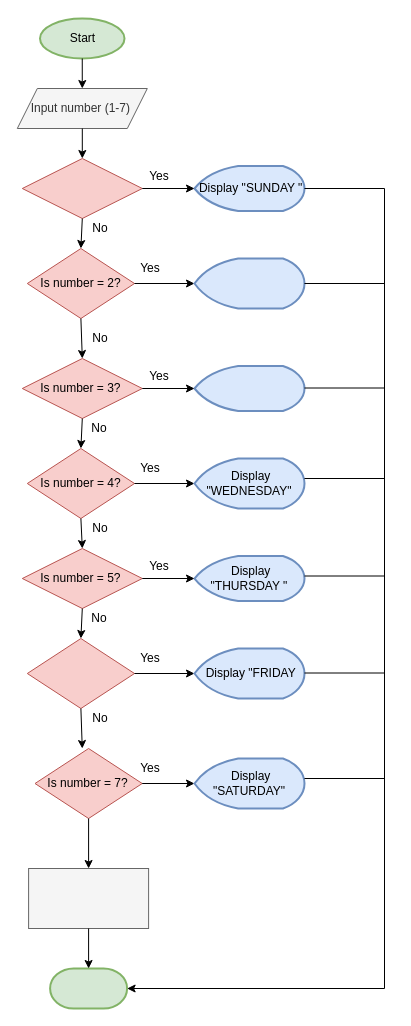
Some shapes in this 411 by 1026 pixel diagram are drawn without their labels. Each missing label, with the centre of its shape:
Default: Display "Invalid input. Enter a number between 1 and 7": [88,898]
Display "MONDAY": [249,283]
Display "TUESDAY ": [249,388]
End: [88,988]
Is number = 1?: [81,188]
Is number = 6?: [80,673]
